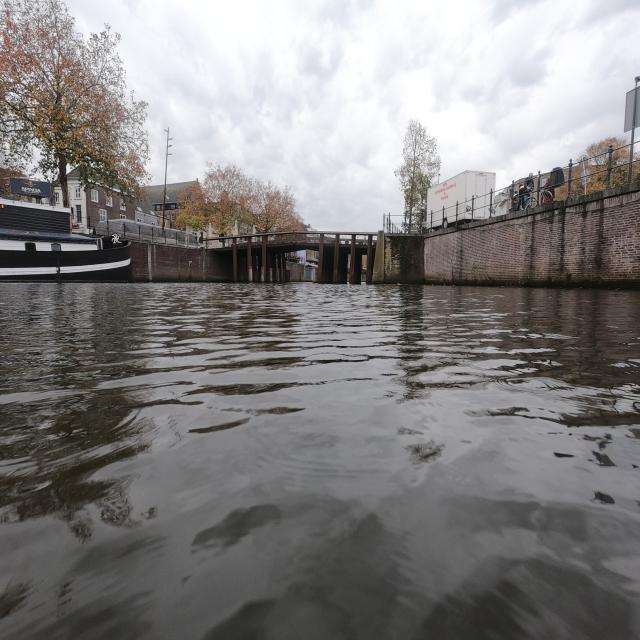boat: (4, 236, 138, 278)
sky: (68, 4, 636, 230)
tree: (2, 4, 148, 222), (192, 164, 304, 232), (394, 119, 441, 226)
wall: (378, 176, 638, 286), (150, 244, 220, 278)
water: (12, 290, 634, 632)
